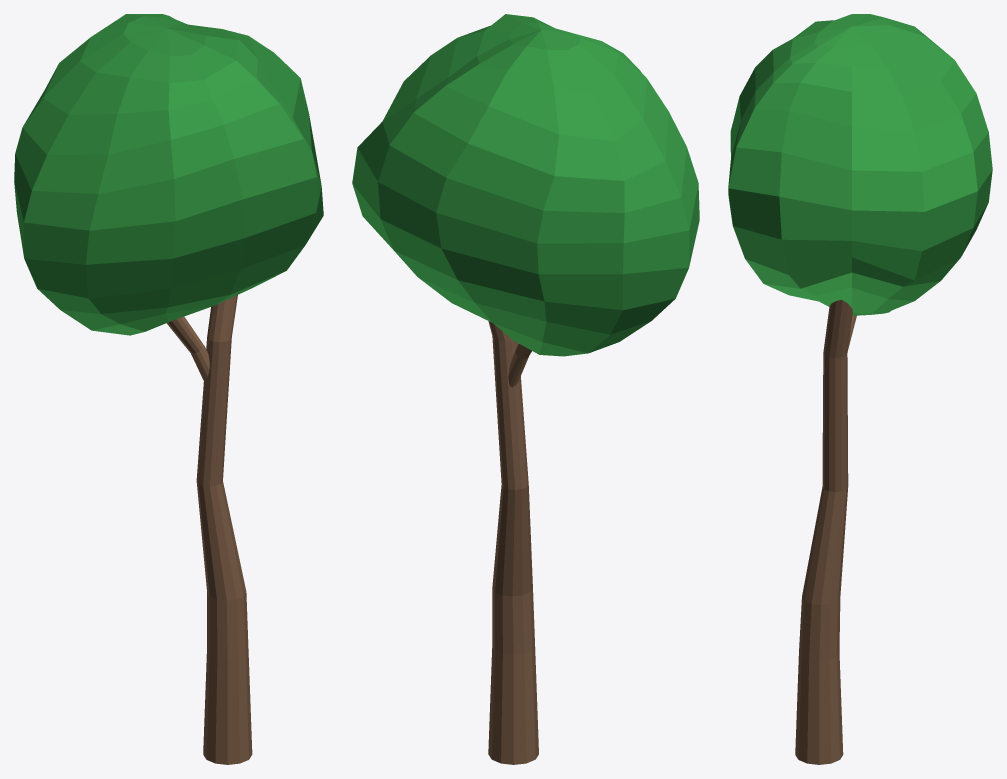
File: Tree1.fbx
3 views of the same model, side by side, from view 1: azimuth 30°, elevation 25°; view 2: azimuth 150°, elevation 25°; view 3: azimuth 270°, elevation 25° (orthographic). The views are drawn at different scales.
Parts seen in each view (by area): view 1: Tree1; view 2: Tree1; view 3: Tree1.
Boxes of the visible parts, left/top/right/bottom form: Tree1: left=14, top=14, right=323, bottom=764; Tree1: left=352, top=14, right=699, bottom=764; Tree1: left=728, top=14, right=992, bottom=764.
Bounding box in the file's own units: 170 × 406 × 137.
